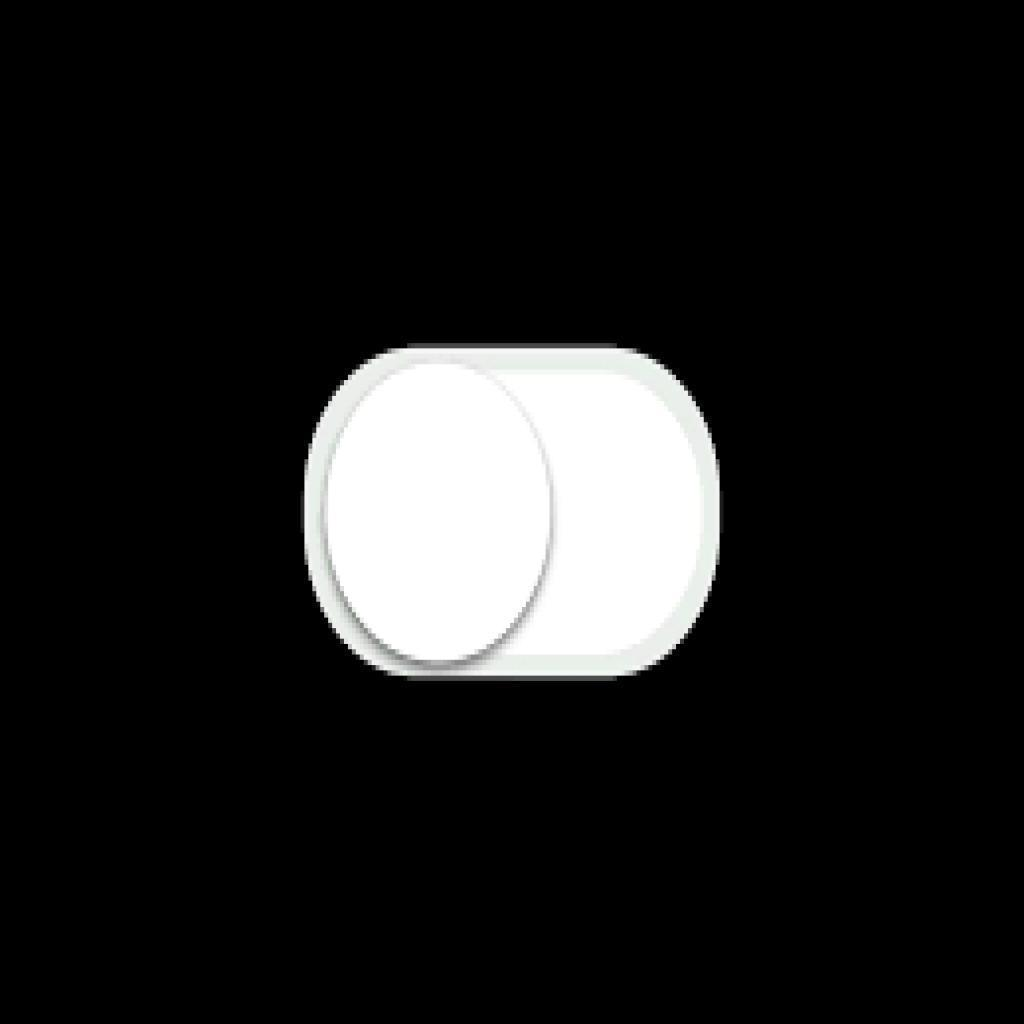switch: (303, 343, 722, 678)
